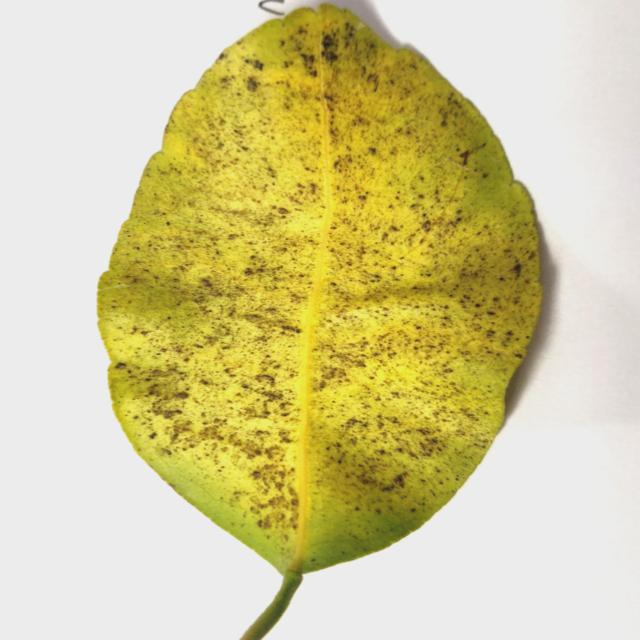melanose: (99, 5, 541, 640)
